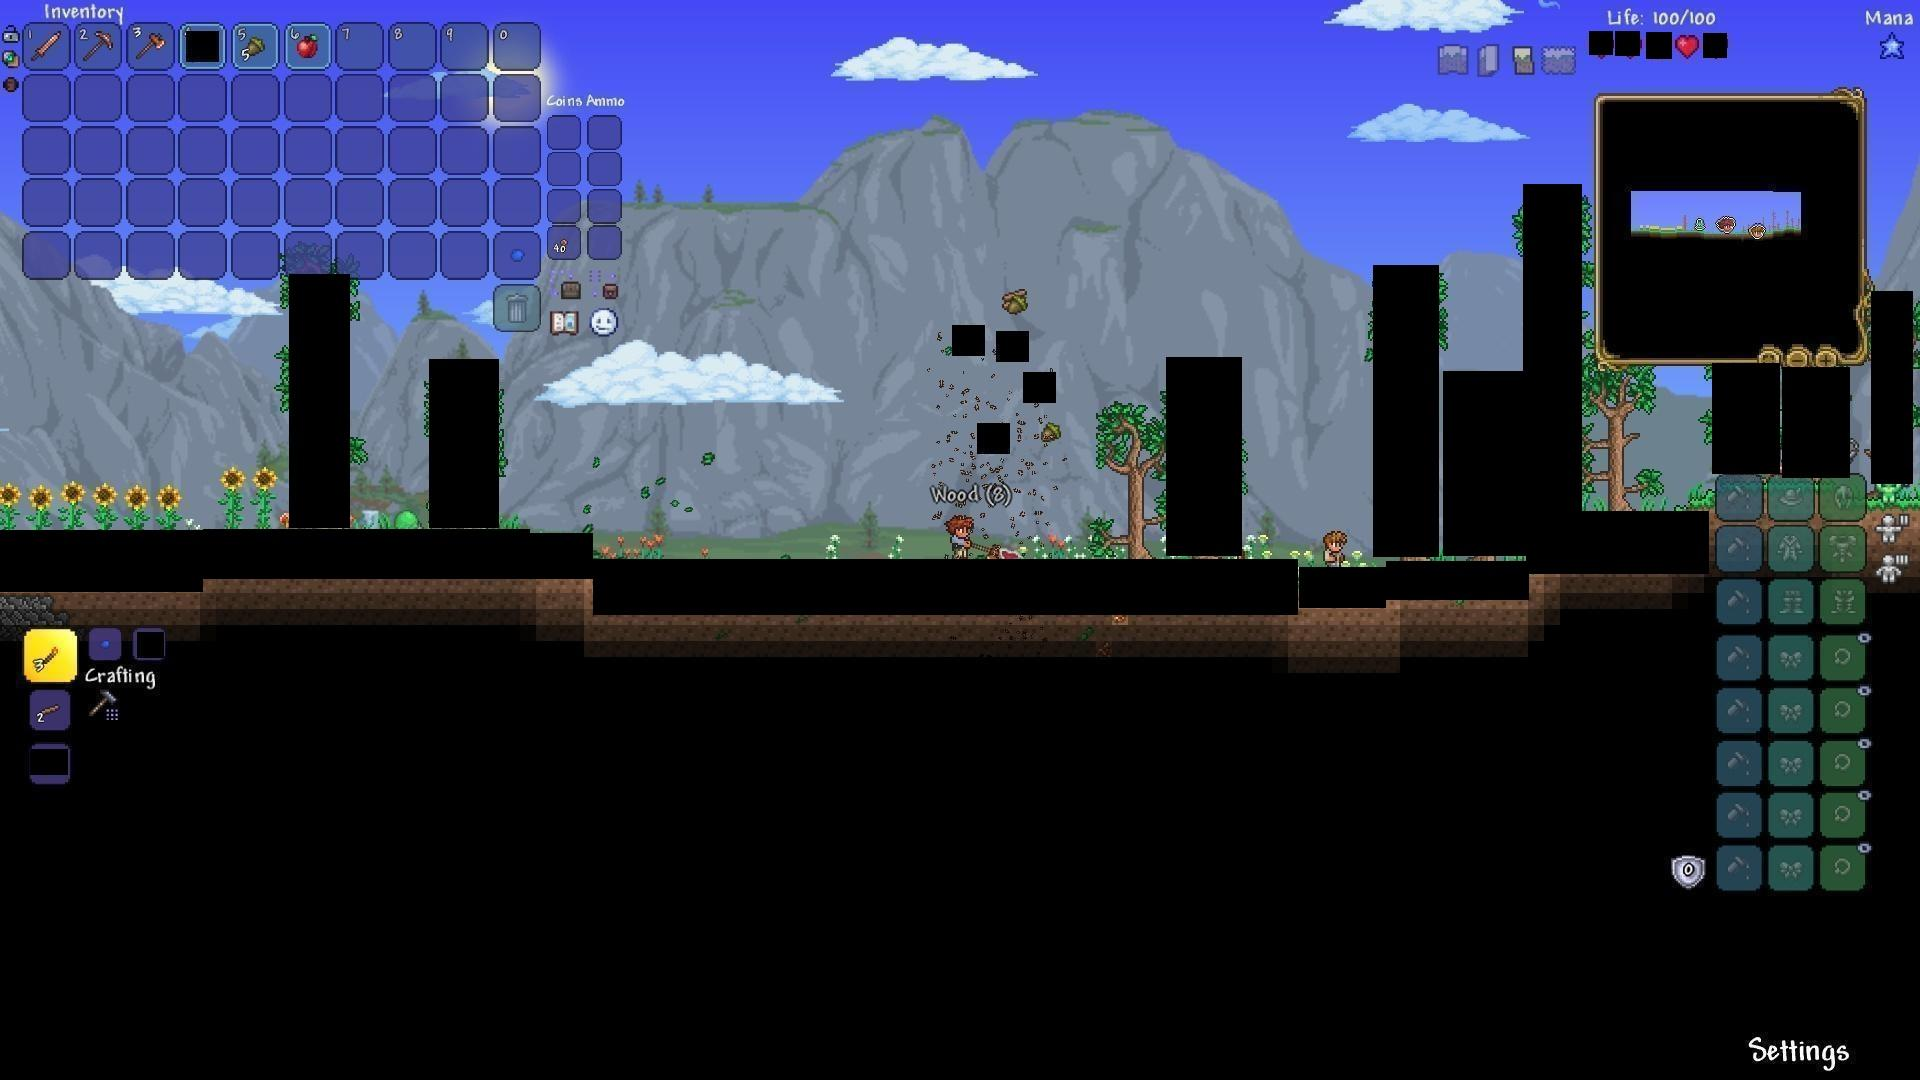heart: (1673, 32, 1698, 58)
slime: (392, 508, 425, 534)
tree: (1095, 396, 1163, 558), (1584, 360, 1652, 506)
